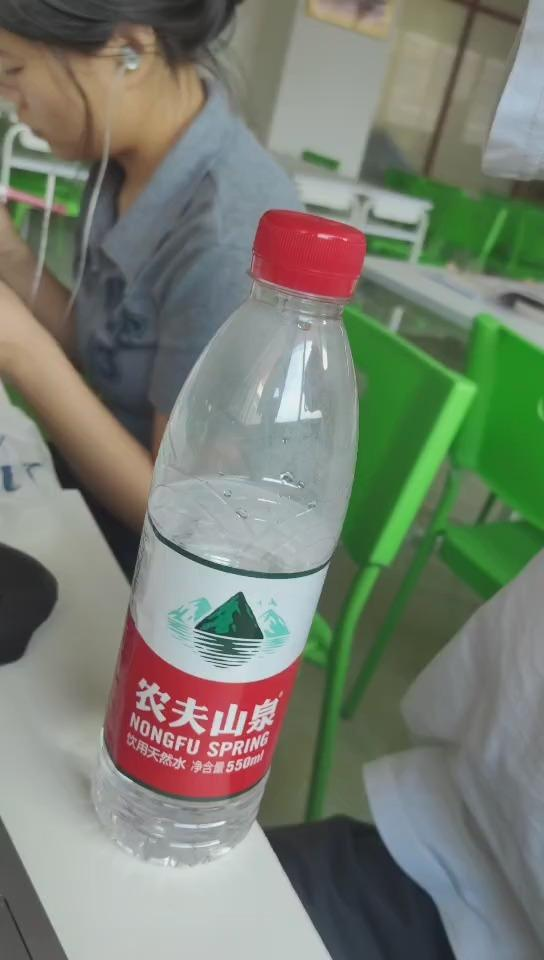BIODEGRADABLE: (86, 216, 378, 869)
